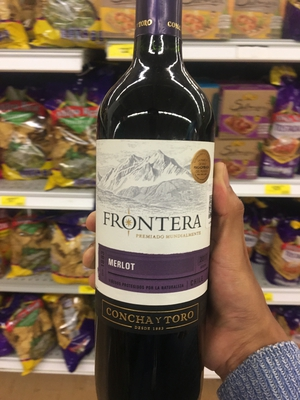frontera merlot: (90, 10, 221, 381)
